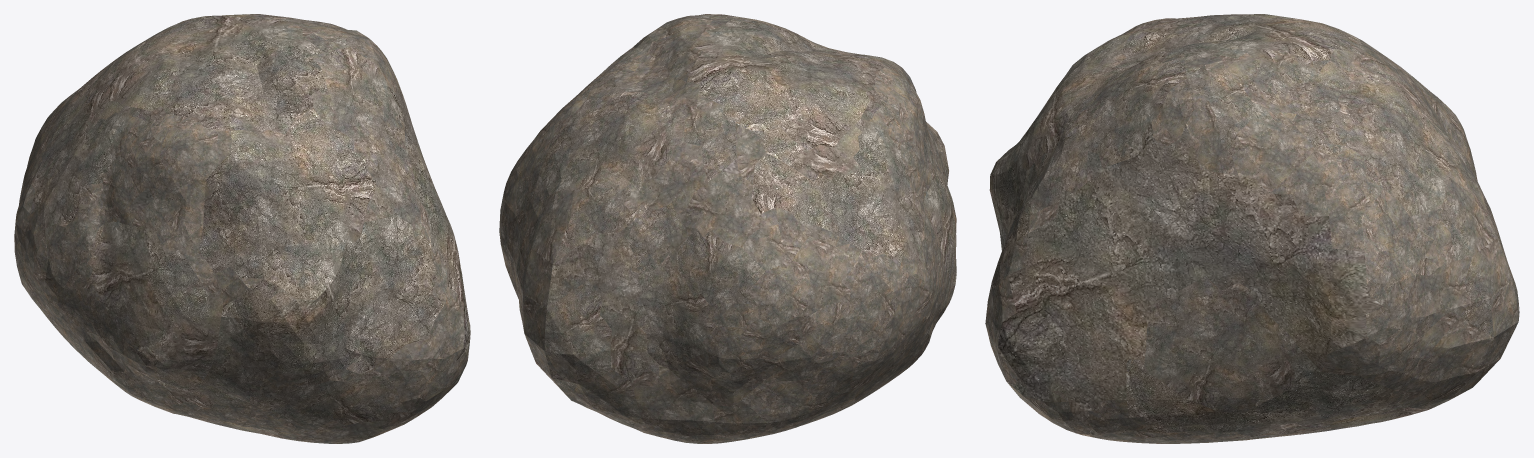
The model's file is Rock.glb.
3 views of the same model, side by side, from view 1: azimuth 30°, elevation 25°; view 2: azimuth 150°, elevation 25°; view 3: azimuth 270°, elevation 25° (orthographic). The views are drawn at different scales.
Visible parts, largest first — view 1: Sphere; view 2: Sphere; view 3: Sphere.
Boxes of the visible parts, left/top/right/bottom form: Sphere: left=14, top=14, right=470, bottom=443; Sphere: left=499, top=14, right=956, bottom=443; Sphere: left=985, top=14, right=1519, bottom=443.
Bounding box in the file's own units: 2.17 × 1.94 × 2.44.
Materials: 1 (1 with a texture image).
